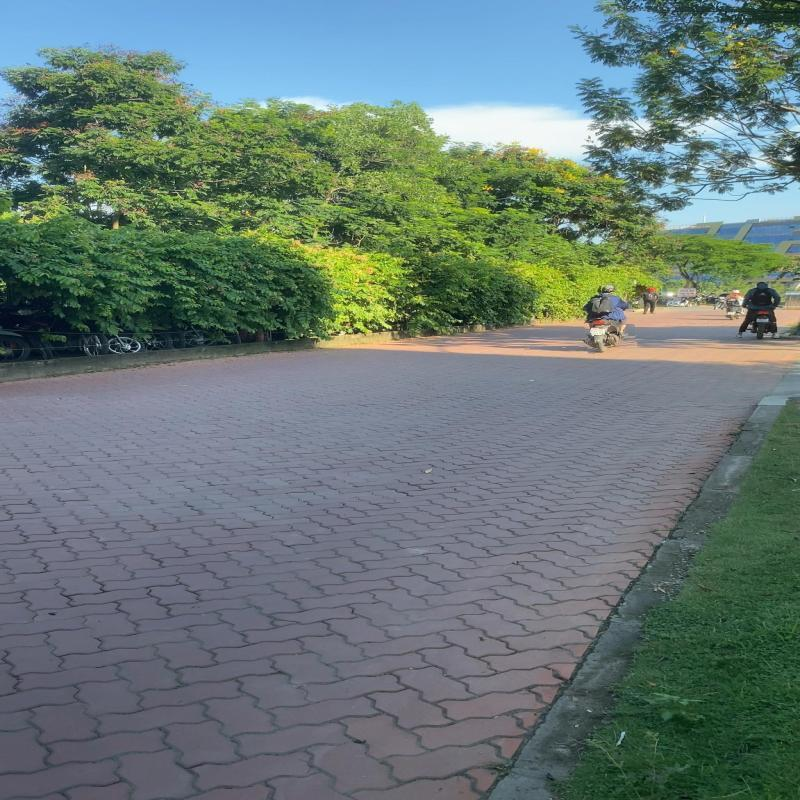helmet: (601, 284, 617, 292)
licenseplate: (590, 328, 606, 334)
motorcyclist: (582, 283, 636, 353)
